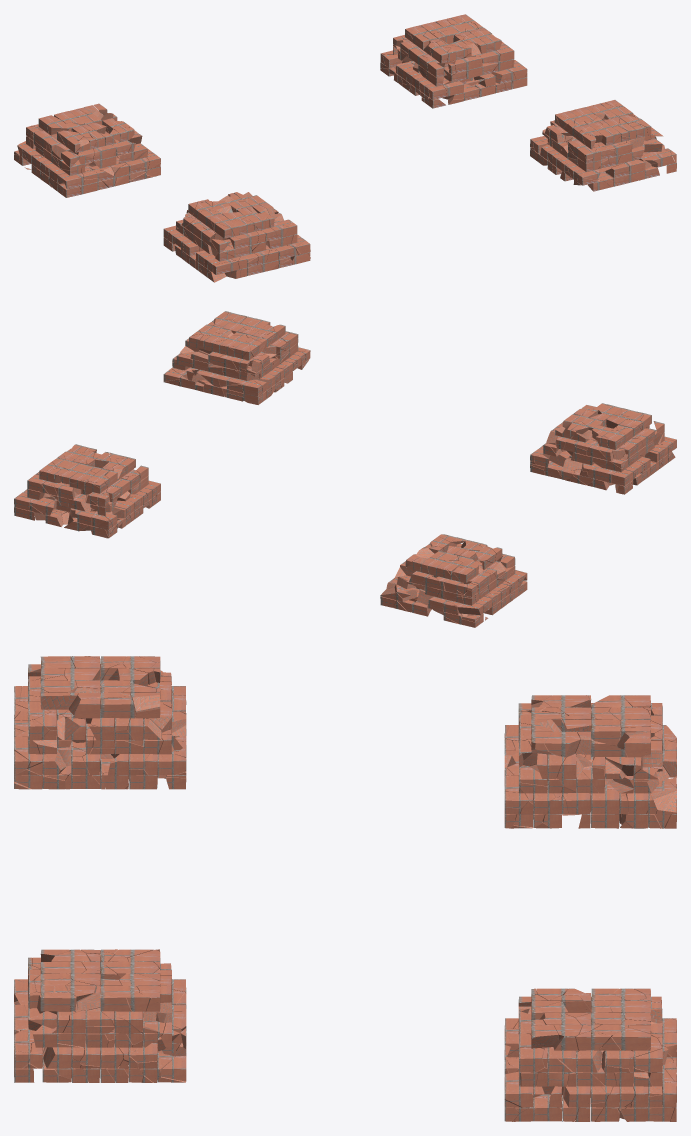
The model's file is Вышка_Сваи.fbx.
The picture shows the model from 3 angles, top to bottom: view 1: azimuth 30°, elevation 25°; view 2: azimuth 150°, elevation 25°; view 3: azimuth 270°, elevation 25°; orthographic projection. The views are drawn at different scales.
Parts seen in each view (by area): view 1: Cube.068_cell, Cube.204_cell, Cube.018_cell.001, Cube.136_cell.002; view 2: Cube.068_cell, Cube.204_cell, Cube.018_cell.001, Cube.136_cell.002; view 3: Cube.068_cell, Cube.136_cell.002, Cube.018_cell.001, Cube.204_cell.
Part boxes in pixels (x1,y1,x2,y2): Cube.068_cell: (380, 14, 527, 108); Cube.204_cell: (14, 103, 160, 197); Cube.018_cell.001: (163, 192, 310, 282); Cube.136_cell.002: (530, 100, 676, 191); Cube.068_cell: (14, 444, 160, 538); Cube.204_cell: (380, 534, 527, 627); Cube.018_cell.001: (530, 403, 676, 494); Cube.136_cell.002: (163, 311, 310, 404); Cube.068_cell: (504, 988, 676, 1121); Cube.136_cell.002: (14, 949, 186, 1082); Cube.018_cell.001: (14, 656, 186, 789); Cube.204_cell: (504, 695, 676, 828).
Size of the model in its own units: 365 by 50.9 by 277.
1 material, 1 textured.
